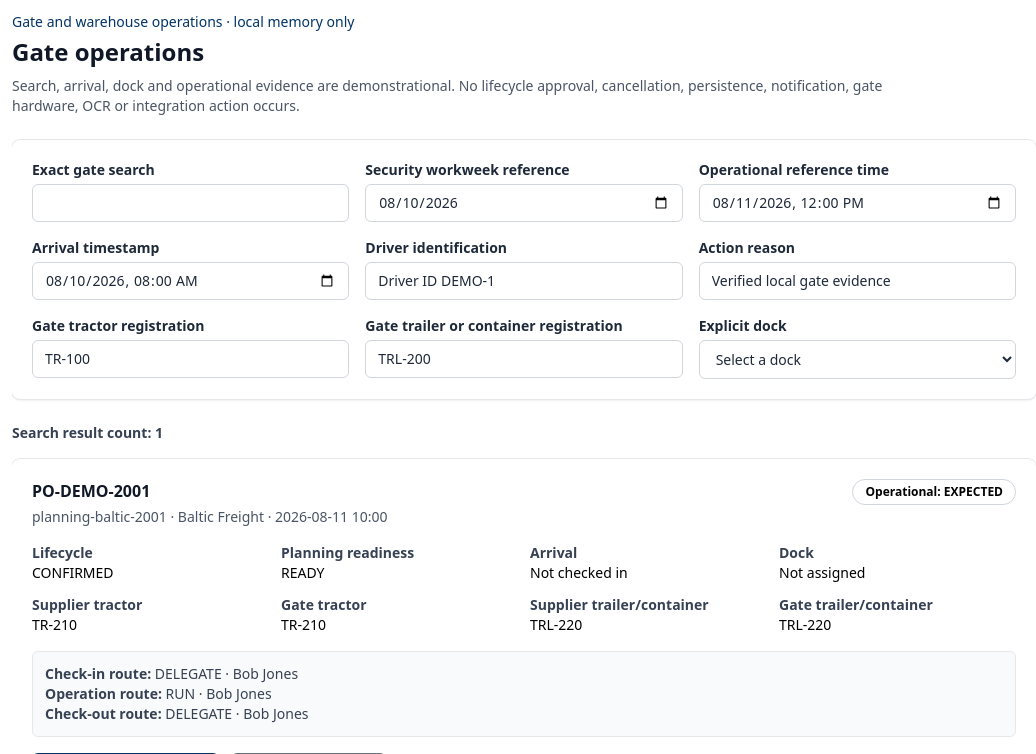
GateOpsPage › uses exact search and never fuzzy-matches
The image size is (1036, 754).
expect the text "Search result count: 1" is shown: met, box [12,423,163,442]
Step 1. Type "baltic freight group" into the field labelled "Exact gate search" → (191, 203), box [32,184,349,222]
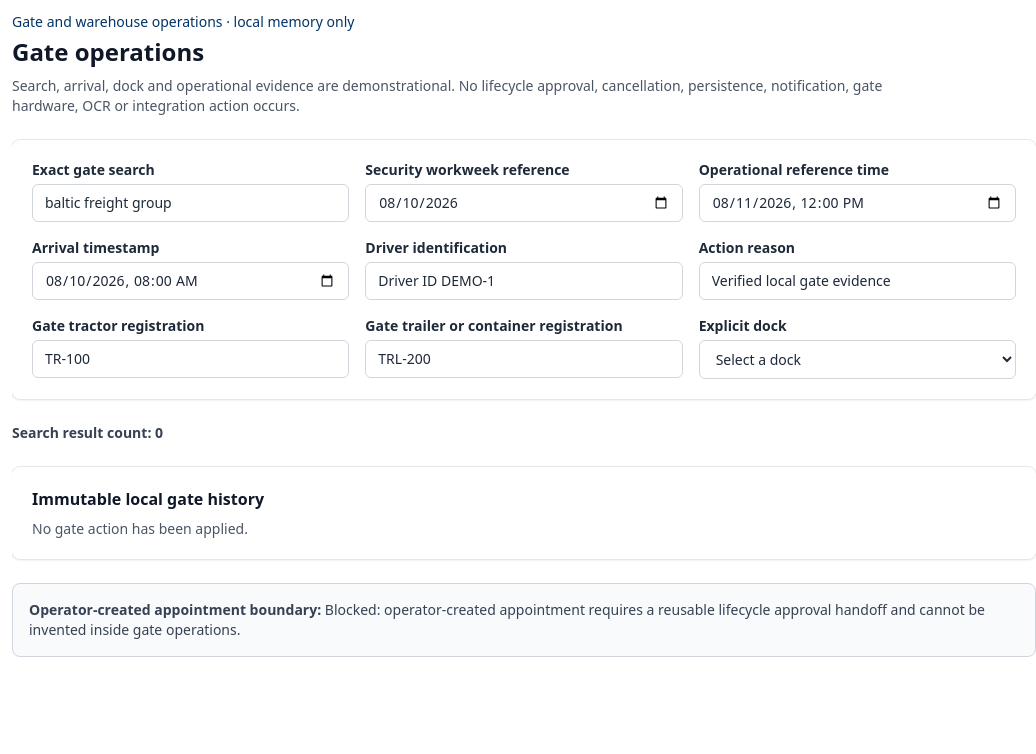
expect the text "Search result count: 0" is shown: met, box [12,423,163,442]
Step 2. Replace the text in the field labelled "Exact gate search" with " PO-DEMO-2001 " → (191, 203), box [32,184,349,222]
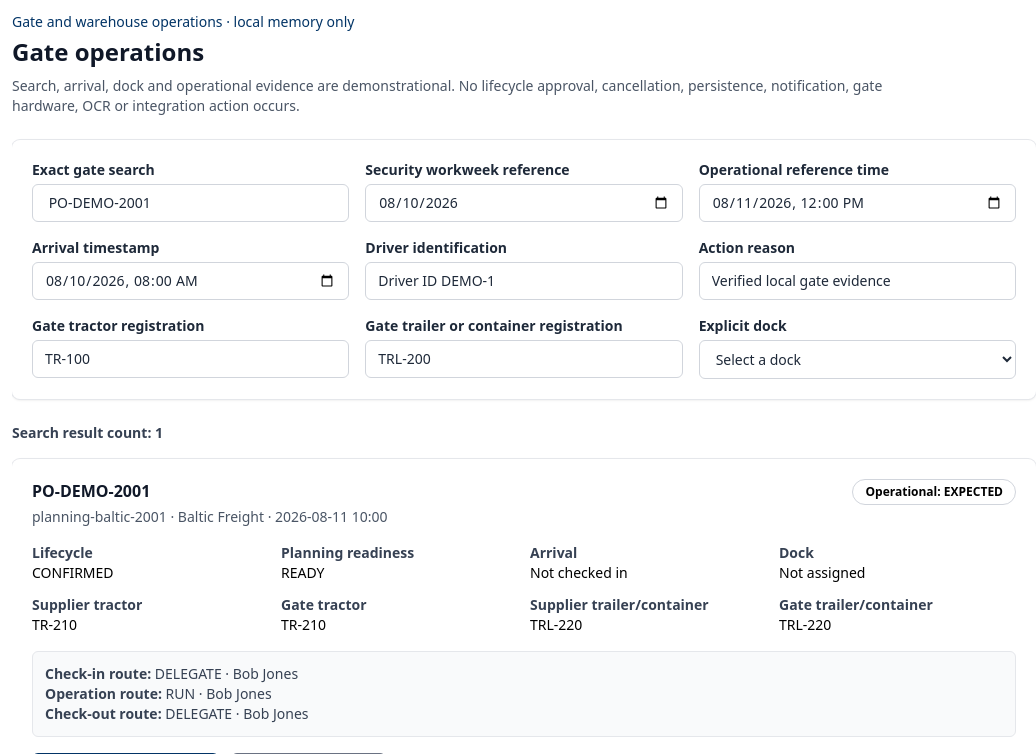
expect the text "Search result count: 1" is shown: met, box [12,423,163,442]
expect the heading "PO-DEMO-2001" is shown: met, box [32,480,150,502]
